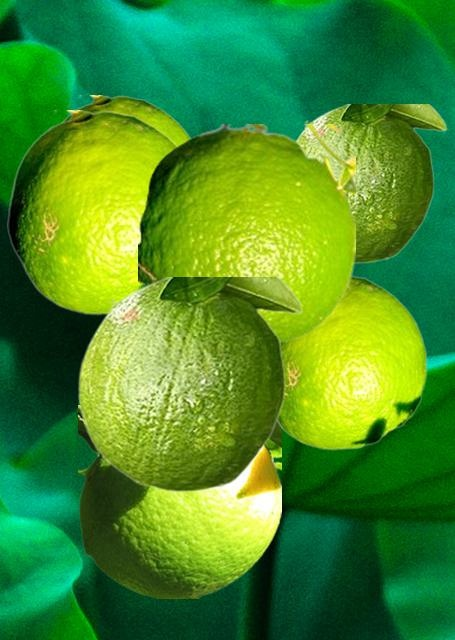dalandan: (77, 277, 302, 491), (138, 124, 354, 343), (78, 408, 280, 597), (7, 110, 176, 314), (279, 274, 426, 449), (296, 104, 446, 262), (60, 95, 190, 144)
